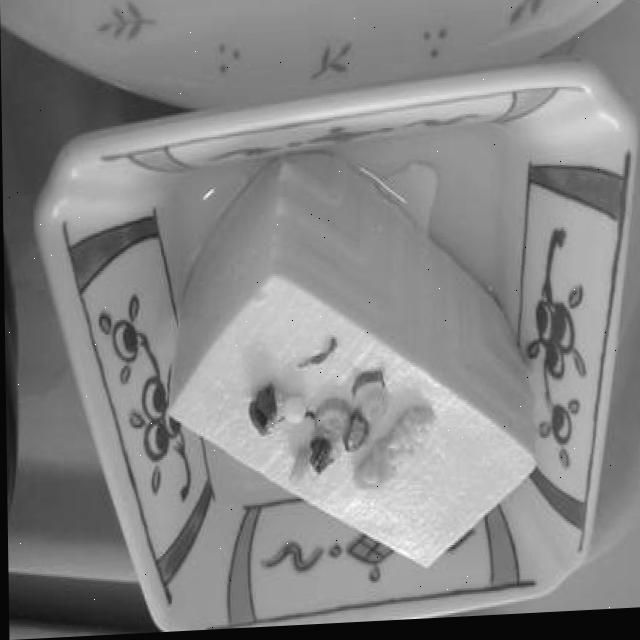豆腐料理: (156, 149, 561, 598)
